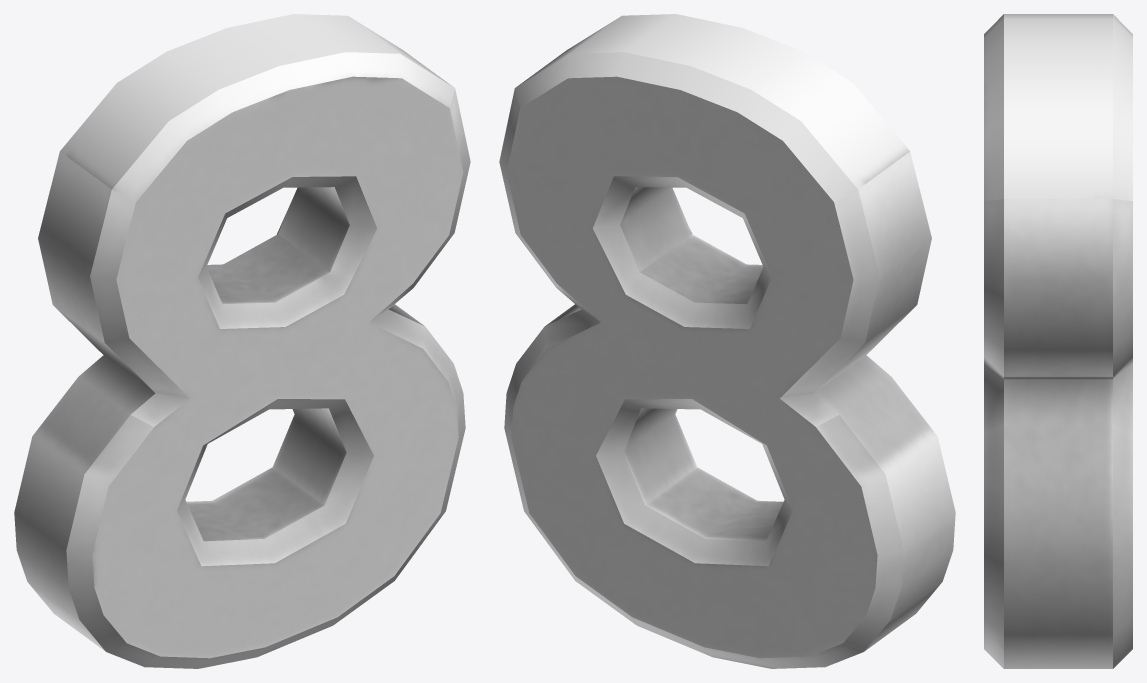
File: number_8.obj
The picture shows the model from 3 angles, left to right: view 1: azimuth 30°, elevation 25°; view 2: azimuth 150°, elevation 25°; view 3: azimuth 270°, elevation 25°; orthographic projection. The views are drawn at different scales.
Visible parts, largest first — view 1: Number_8; view 2: Number_8; view 3: Number_8.
Part boxes in pixels (x1,y1,x2,y2): Number_8: (14, 14, 470, 668); Number_8: (499, 14, 955, 668); Number_8: (984, 14, 1132, 668).
Bounding box in the file's own units: 19.41 × 26.87 × 5.91.
Materials: 1 (1 with a texture image).
